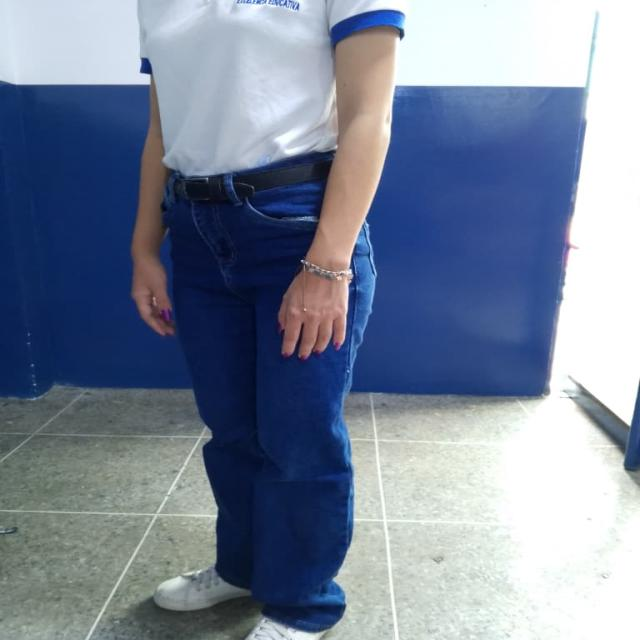pantalon_oscuro: (163, 185, 379, 633)
uniforme_superior: (134, 0, 406, 176)
